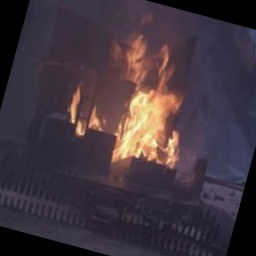fire: (61, 22, 215, 179)
